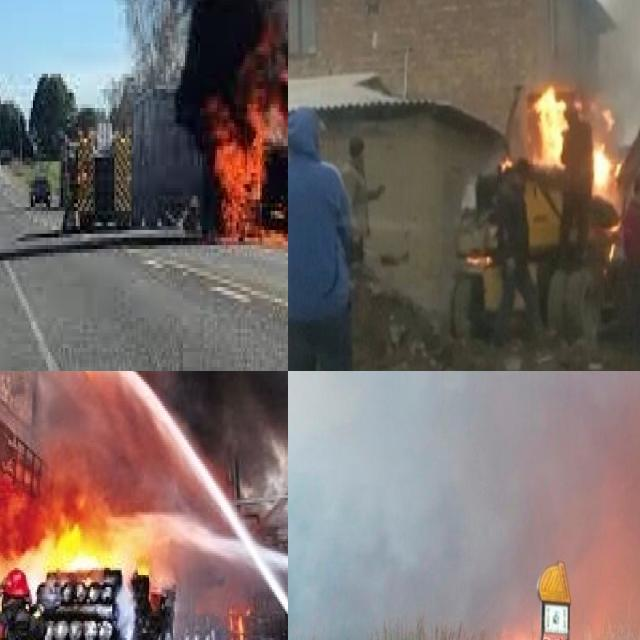fire: (183, 24, 288, 264), (0, 473, 147, 640), (528, 88, 614, 187), (484, 617, 540, 640)
smoke: (288, 371, 640, 640), (16, 371, 288, 514), (97, 0, 288, 123)
